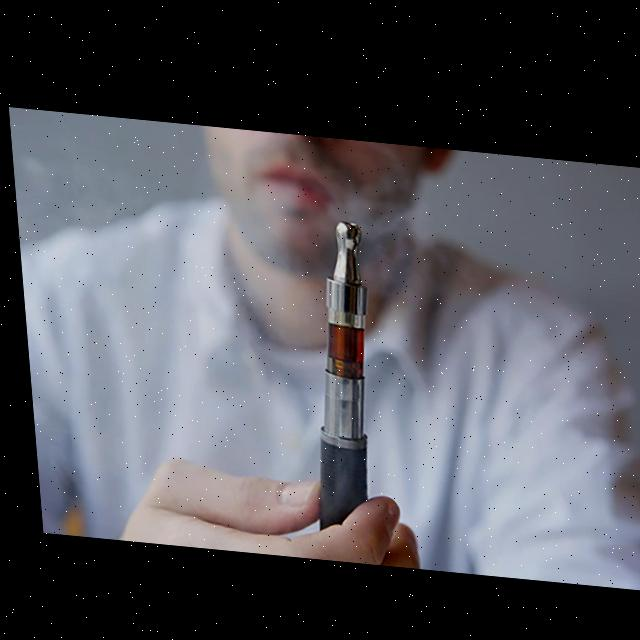vape: (291, 209, 380, 535)
